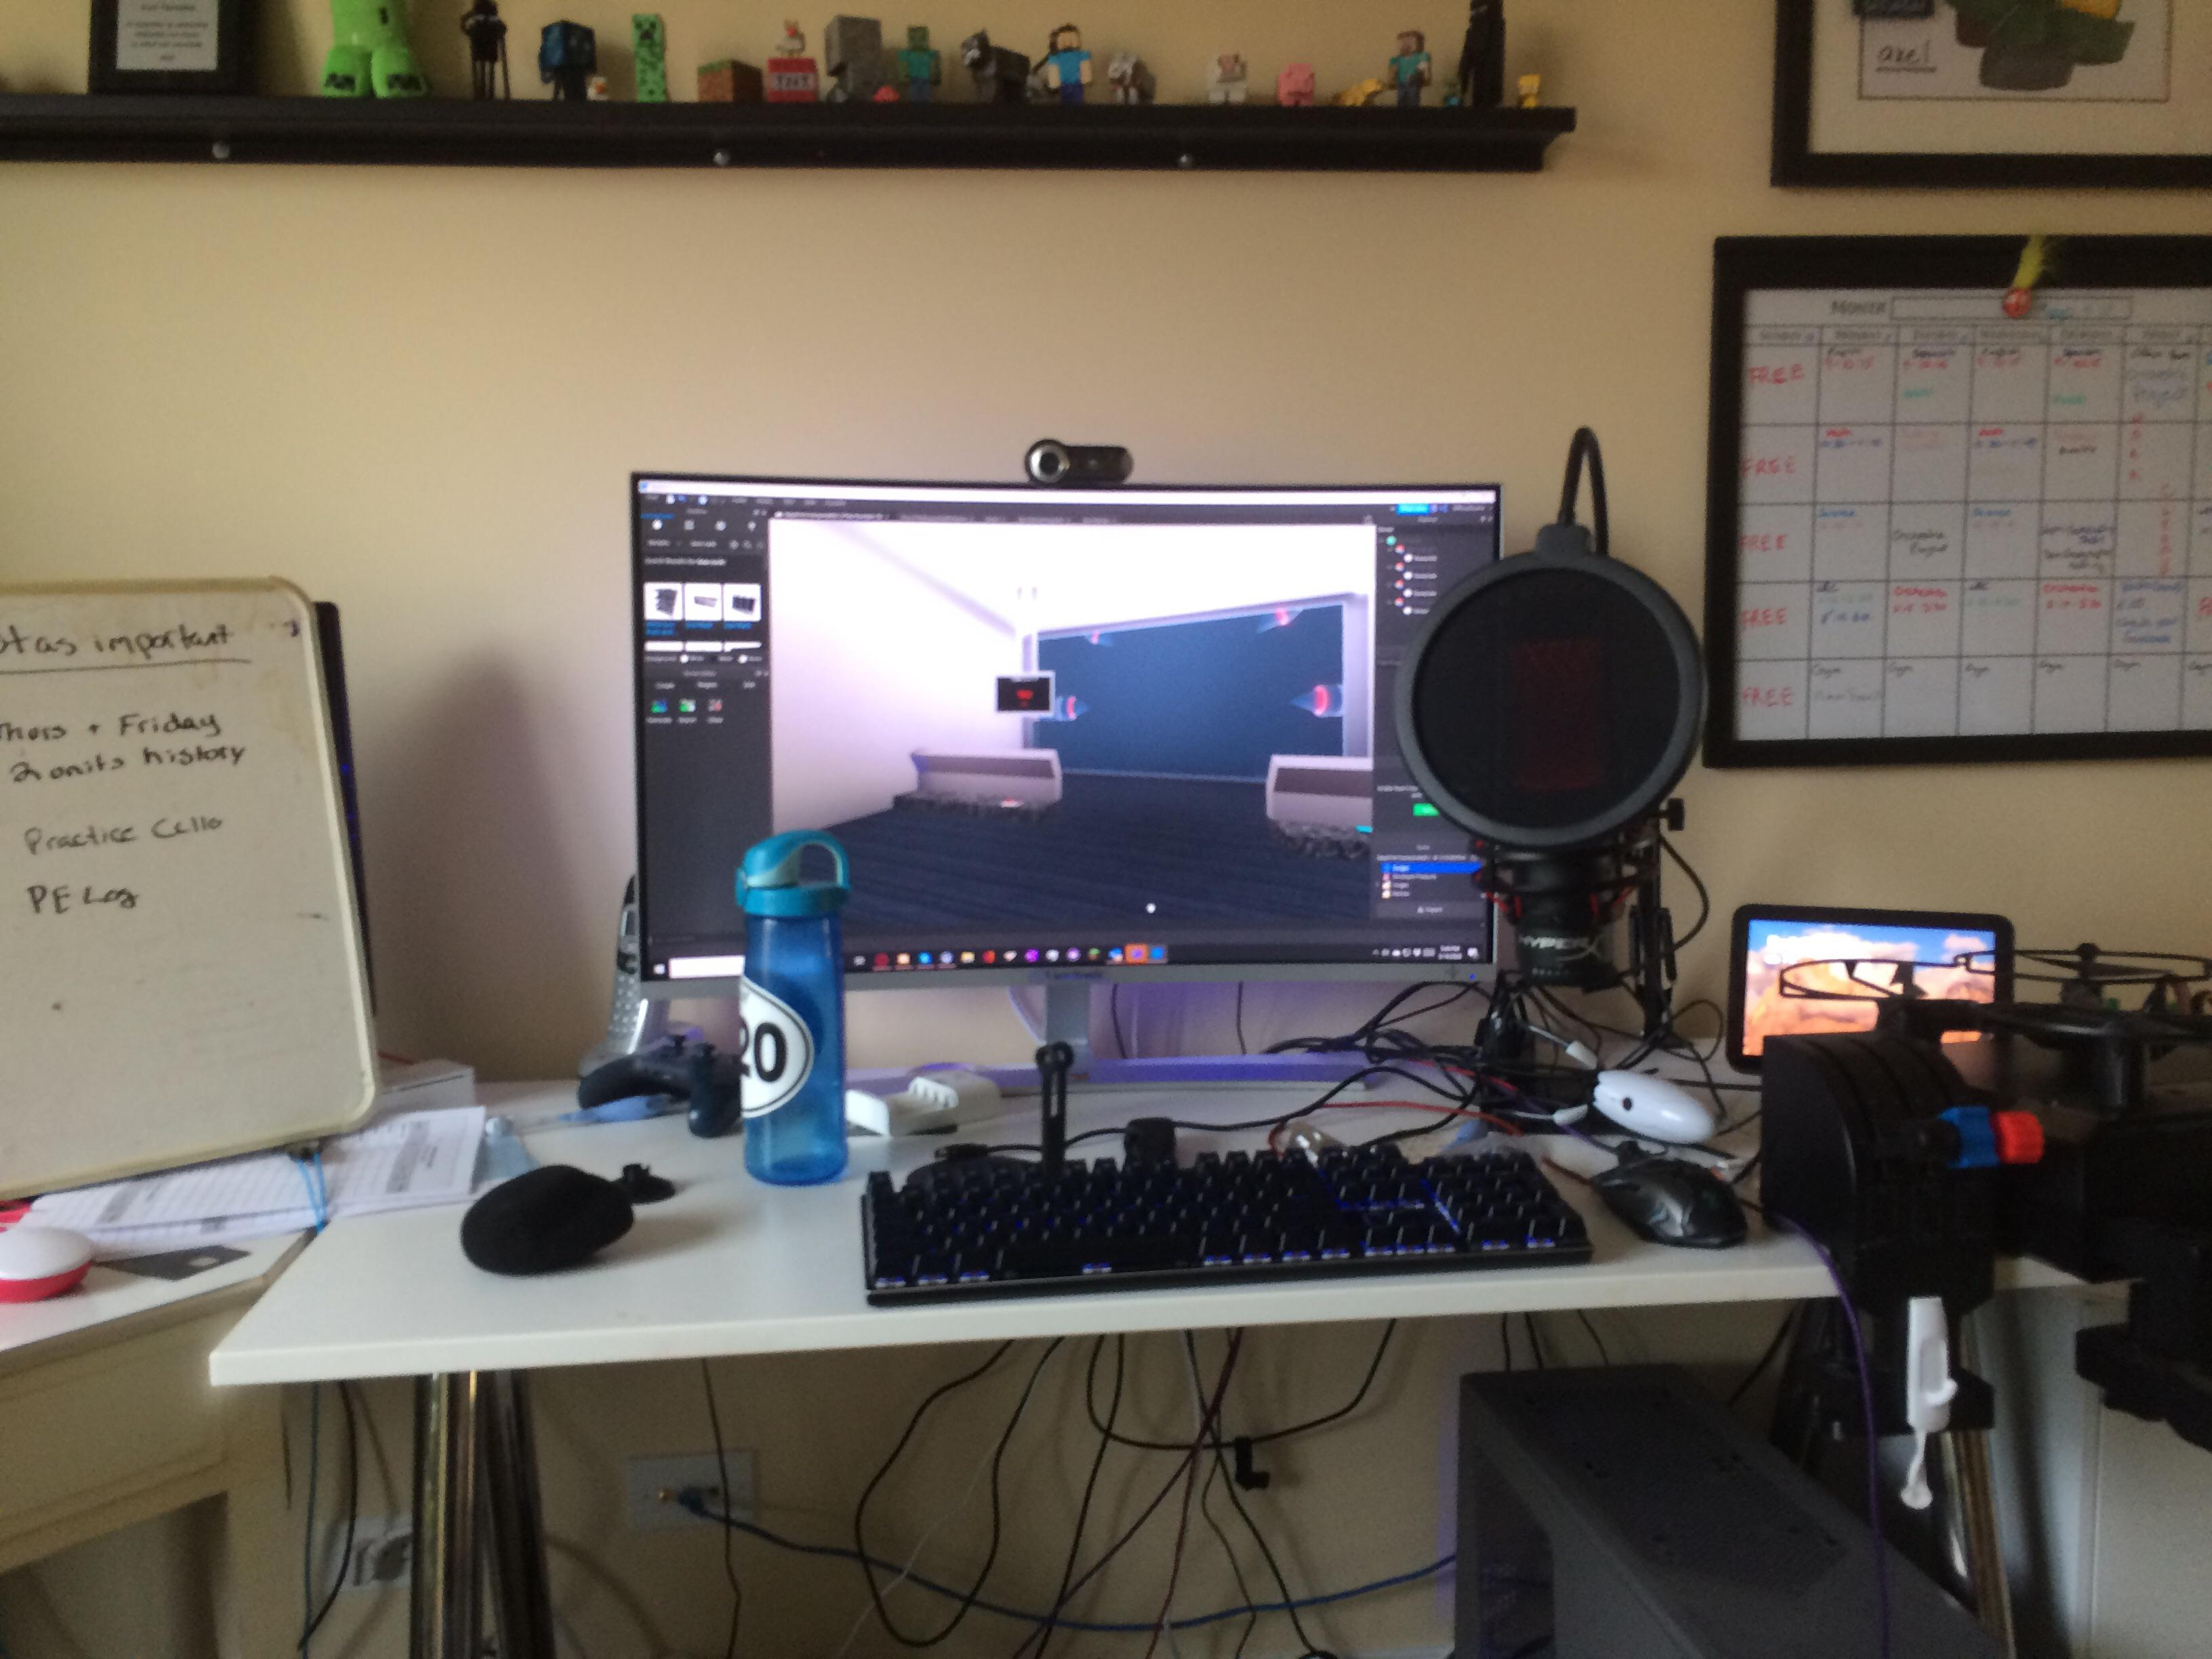Decoration (Miniature): (261, 0, 1601, 138)
Desk (Generic): (199, 993, 2186, 1659)
Desktop (Windows): (1390, 1354, 2074, 1659)
External Microphone (with Boom Arm): (1390, 392, 1721, 1105)
External Webcam: (1015, 422, 1160, 491)
Gaming Controller: (575, 1011, 777, 1148)
Keyboard (Gaming): (836, 1136, 1599, 1316)
Monitor (Landscape): (622, 476, 1522, 1006)
Mouse (Gaming): (1576, 1141, 1770, 1272)
Tablet (Generic): (1714, 897, 2029, 1108)
Telephone: (585, 836, 714, 1112)
Water Bottle: (709, 829, 867, 1195)
